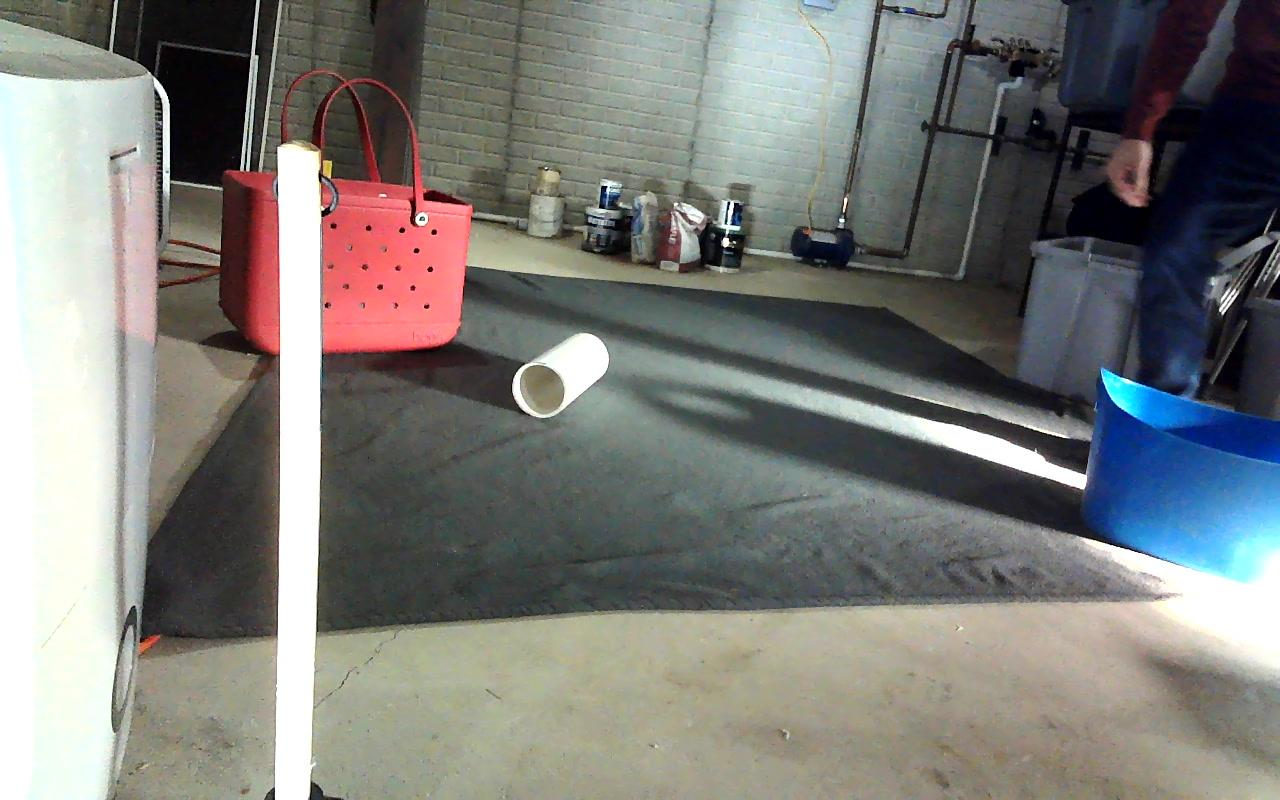coral: (512, 331, 608, 417)
